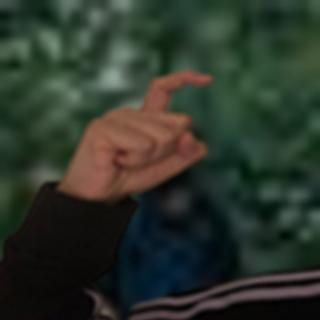WHY: (56, 64, 221, 203)
